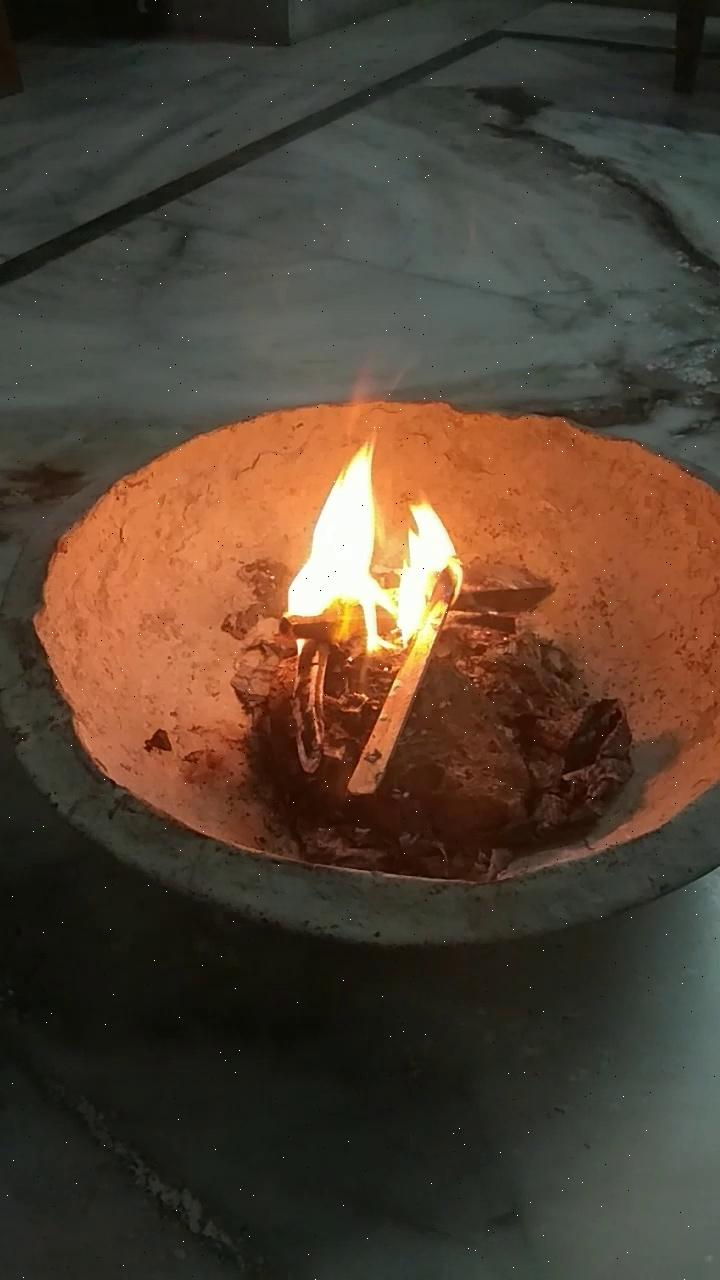fire: (265, 388, 471, 704)
